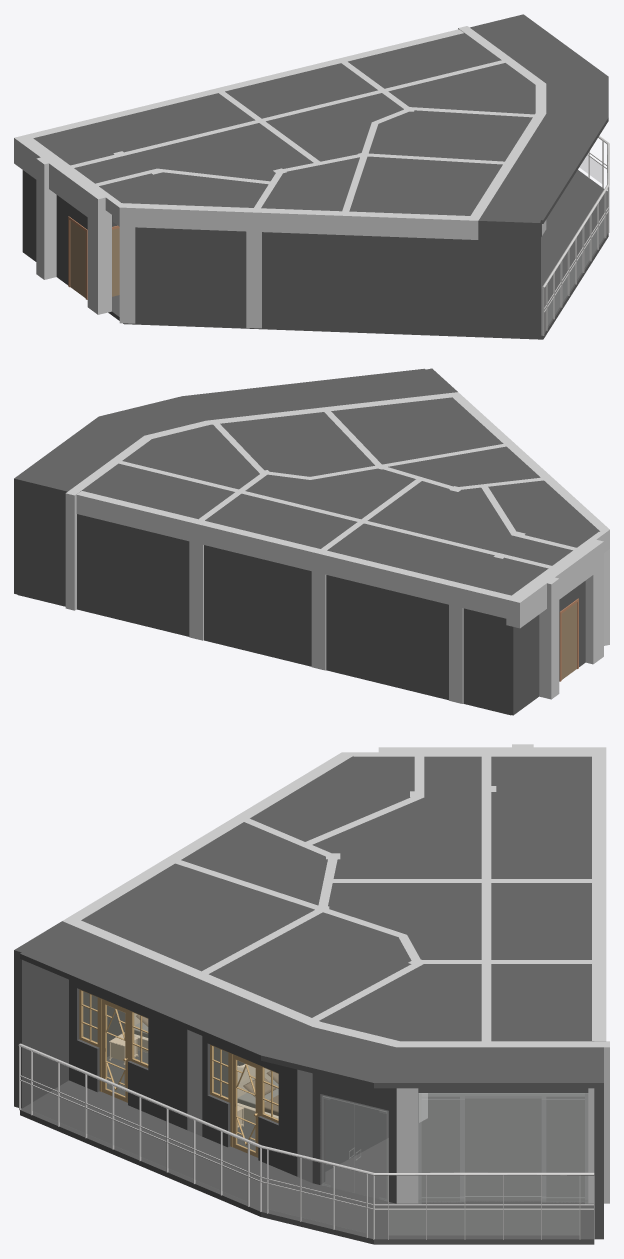
The picture shows the model from 3 angles, top to bottom: view 1: azimuth 30°, elevation 25°; view 2: azimuth 150°, elevation 25°; view 3: azimuth 270°, elevation 25°; orthographic projection. The views are drawn at different scales.
Parts seen in each view (by area): view 1: product-c4771f7d-ba13-4486-b696-57a7fc64f7cc-body, product-c4771f7d-ba13-4486-b696-57a7fc64f7d6-body, product-c4771f7d-ba13-4486-b696-57a7fc64f7ac-body, product-c4771f7d-ba13-4486-b696-57a7fc64f74e-body, product-c4771f7d-ba13-4486-b696-57a7fc64f7d9-body, product-c4771f7d-ba13-4486-b696-57a7fc64f791-body, product-c4771f7d-ba13-4486-b696-57a7fc64f7fb-body, product-c4771f7d-ba13-4486-b696-57a7fc64f773-body, product-c4771f7d-ba13-4486-b696-57a7fc64f793-body, product-c4771f7d-ba13-4486-b696-57a7fc64f771-body, product-c4771f7d-ba13-4486-b696-57a7fc64f77f-body, product-c4771f7d-ba13-4486-b696-57a7fc64f77d-body (+17 smaller); view 2: product-c4771f7d-ba13-4486-b696-57a7fc64f7cc-body, product-c4771f7d-ba13-4486-b696-57a7fc64f7d2-body, product-c4771f7d-ba13-4486-b696-57a7fc64f74f-body, product-c4771f7d-ba13-4486-b696-57a7fc64f7d1-body, product-c4771f7d-ba13-4486-b696-57a7fc64f7cf-body, product-c4771f7d-ba13-4486-b696-57a7fc64f7d0-body, product-c4771f7d-ba13-4486-b696-57a7fc64f79b-body, product-c4771f7d-ba13-4486-b696-57a7fc64f797-body, product-c4771f7d-ba13-4486-b696-57a7fc64f795-body, product-c4771f7d-ba13-4486-b696-57a7fc64f771-body, product-c4771f7d-ba13-4486-b696-57a7fc64f773-body, product-c4771f7d-ba13-4486-b696-57a7fc64f7d4-body (+17 smaller); view 3: product-c4771f7d-ba13-4486-b696-57a7fc64f7cc-body, product-c4771f7d-ba13-4486-b696-57a7fc64f7d9-body, product-c4771f7d-ba13-4486-b696-57a7fc64f7fb-body, product-c4771f7d-ba13-4486-b696-57a7fc64f7cb-body, product-c4771f7d-ba13-4486-b696-57a7fc64f7ad-body, product-c4771f7d-ba13-4486-b696-57a7fc64f74e-body, product-c4771f7d-ba13-4486-b696-57a7fc64f7ca-body, product-c4771f7d-ba13-4486-b696-57a7fc64f7d7-body, product-c4771f7d-ba13-4486-b696-57a7fc64f7c5-body, product-c4771f7d-ba13-4486-b696-57a7fc64f7c4-body, product-c4771f7d-ba13-4486-b696-57a7fc64f74d-body, product-c4771f7d-ba13-4486-b696-57a7fc64f784-body (+25 smaller).
Boxes of the visible parts, x1=… form: product-c4771f7d-ba13-4486-b696-57a7fc64f7cc-body: x1=33, y1=17, x2=608, y2=223; product-c4771f7d-ba13-4486-b696-57a7fc64f7d6-body: x1=262, y1=232, x2=474, y2=335; product-c4771f7d-ba13-4486-b696-57a7fc64f7ac-body: x1=135, y1=227, x2=246, y2=327; product-c4771f7d-ba13-4486-b696-57a7fc64f74e-body: x1=478, y1=218, x2=540, y2=338; product-c4771f7d-ba13-4486-b696-57a7fc64f7d9-body: x1=108, y1=170, x2=608, y2=339; product-c4771f7d-ba13-4486-b696-57a7fc64f791-body: x1=262, y1=208, x2=469, y2=239; product-c4771f7d-ba13-4486-b696-57a7fc64f7fb-body: x1=542, y1=136, x2=609, y2=335; product-c4771f7d-ba13-4486-b696-57a7fc64f773-body: x1=87, y1=188, x2=111, y2=314; product-c4771f7d-ba13-4486-b696-57a7fc64f793-body: x1=113, y1=203, x2=246, y2=231; product-c4771f7d-ba13-4486-b696-57a7fc64f771-body: x1=36, y1=154, x2=62, y2=279; product-c4771f7d-ba13-4486-b696-57a7fc64f77f-body: x1=119, y1=203, x2=136, y2=323; product-c4771f7d-ba13-4486-b696-57a7fc64f77d-body: x1=246, y1=207, x2=262, y2=328; product-c4771f7d-ba13-4486-b696-57a7fc64f7cc-body: x1=18, y1=368, x2=599, y2=595; product-c4771f7d-ba13-4486-b696-57a7fc64f7d2-body: x1=326, y1=575, x2=448, y2=699; product-c4771f7d-ba13-4486-b696-57a7fc64f74f-body: x1=77, y1=514, x2=189, y2=636; product-c4771f7d-ba13-4486-b696-57a7fc64f7d1-body: x1=204, y1=545, x2=311, y2=666; product-c4771f7d-ba13-4486-b696-57a7fc64f7cf-body: x1=14, y1=476, x2=70, y2=606; product-c4771f7d-ba13-4486-b696-57a7fc64f7d0-body: x1=463, y1=608, x2=516, y2=715; product-c4771f7d-ba13-4486-b696-57a7fc64f79b-body: x1=325, y1=551, x2=453, y2=604; product-c4771f7d-ba13-4486-b696-57a7fc64f797-body: x1=76, y1=491, x2=193, y2=541; product-c4771f7d-ba13-4486-b696-57a7fc64f795-body: x1=203, y1=521, x2=316, y2=570; product-c4771f7d-ba13-4486-b696-57a7fc64f771-body: x1=533, y1=574, x2=559, y2=699; product-c4771f7d-ba13-4486-b696-57a7fc64f773-body: x1=580, y1=538, x2=603, y2=664; product-c4771f7d-ba13-4486-b696-57a7fc64f7d4-body: x1=516, y1=615, x2=539, y2=712; product-c4771f7d-ba13-4486-b696-57a7fc64f7cc-body: x1=20, y1=756, x2=594, y2=1088; product-c4771f7d-ba13-4486-b696-57a7fc64f7d9-body: x1=20, y1=1050, x2=594, y2=1244; product-c4771f7d-ba13-4486-b696-57a7fc64f7fb-body: x1=18, y1=1043, x2=594, y2=1239; product-c4771f7d-ba13-4486-b696-57a7fc64f7cb-body: x1=418, y1=1093, x2=588, y2=1203; product-c4771f7d-ba13-4486-b696-57a7fc64f7ad-body: x1=69, y1=979, x2=187, y2=1129; product-c4771f7d-ba13-4486-b696-57a7fc64f74e-body: x1=14, y1=921, x2=68, y2=1108; product-c4771f7d-ba13-4486-b696-57a7fc64f7ca-body: x1=321, y1=1094, x2=388, y2=1201; product-c4771f7d-ba13-4486-b696-57a7fc64f7d7-body: x1=202, y1=1036, x2=297, y2=1176; product-c4771f7d-ba13-4486-b696-57a7fc64f7c5-body: x1=79, y1=989, x2=148, y2=1102; product-c4771f7d-ba13-4486-b696-57a7fc64f7c4-body: x1=210, y1=1044, x2=278, y2=1157; product-c4771f7d-ba13-4486-b696-57a7fc64f74d-body: x1=312, y1=1073, x2=396, y2=1203; product-c4771f7d-ba13-4486-b696-57a7fc64f784-body: x1=325, y1=1095, x2=388, y2=1171.
Bounding box in the file's own units: 16.77 × 3.72 × 12.44.
